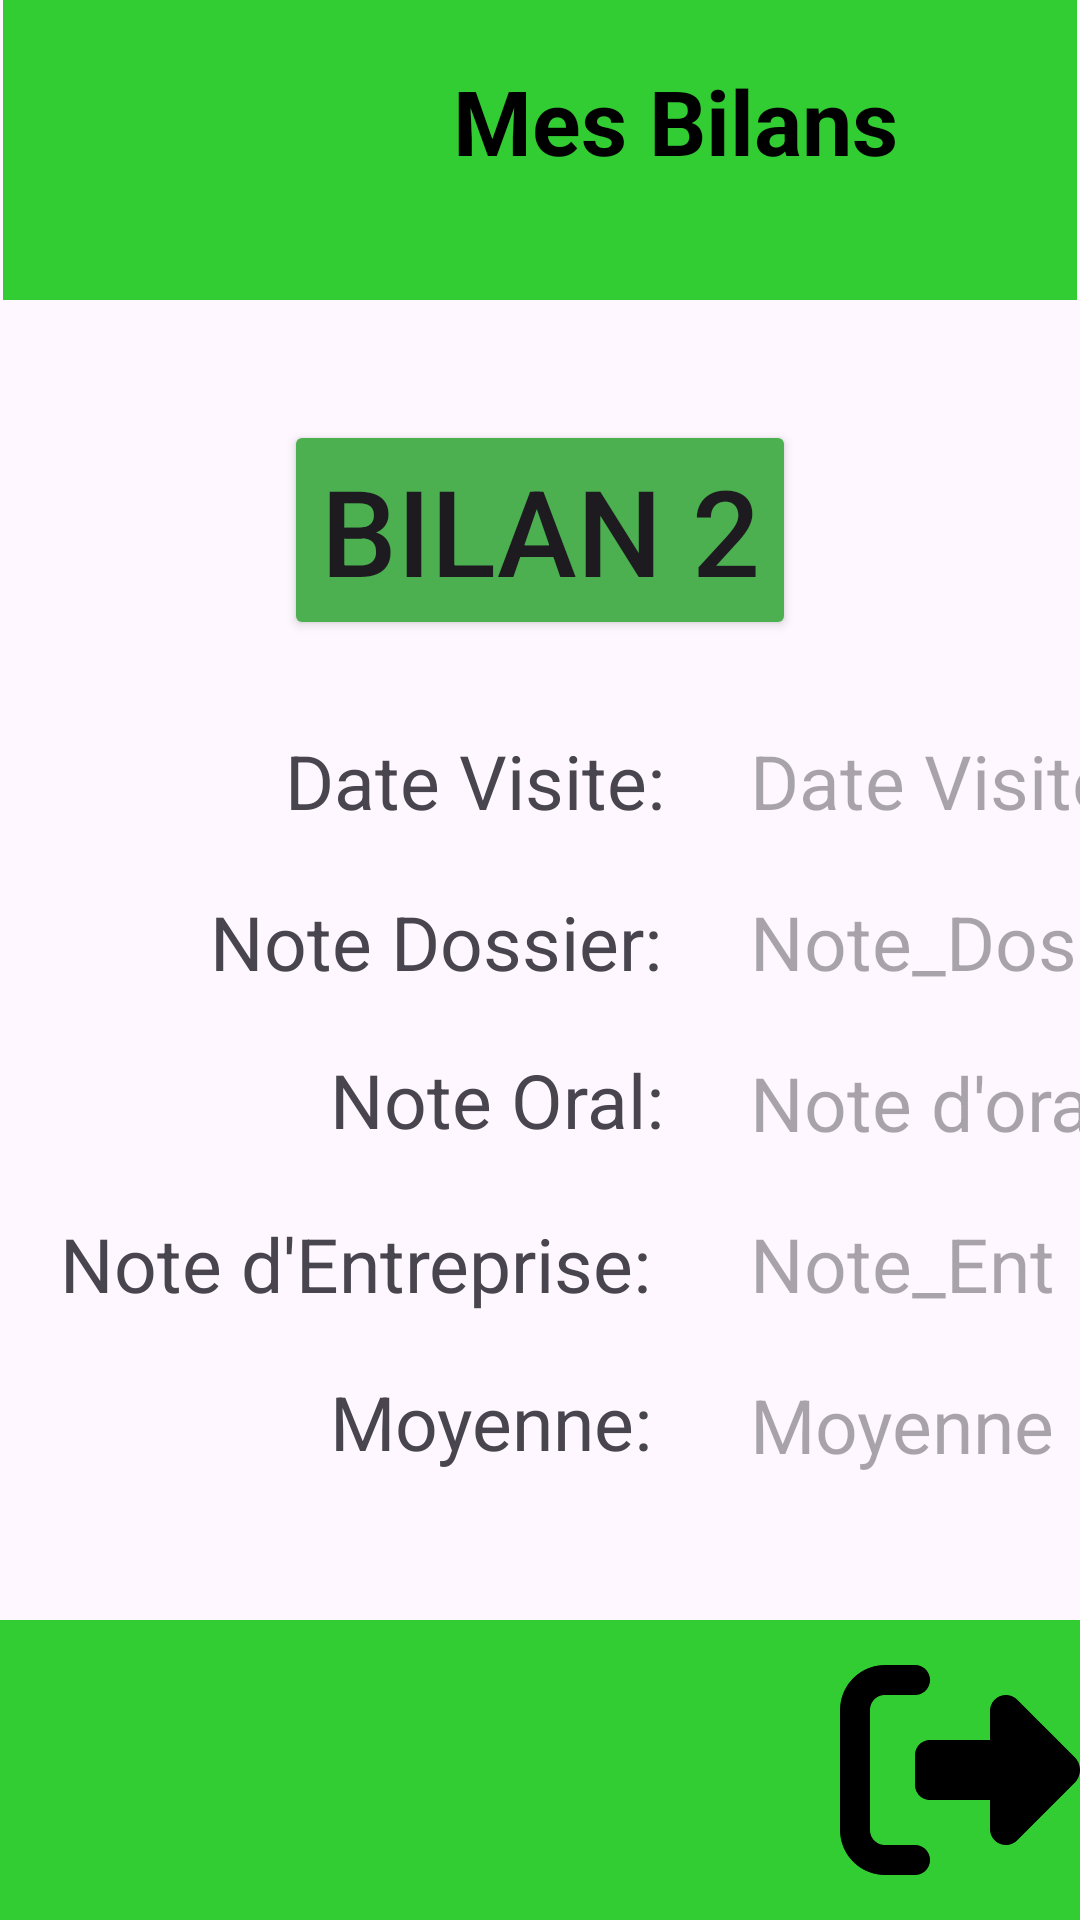

Icon click points for this 1080 × 1920 phone screenshot, format (x=x, y=y):
escape: (x=960, y=1770)
